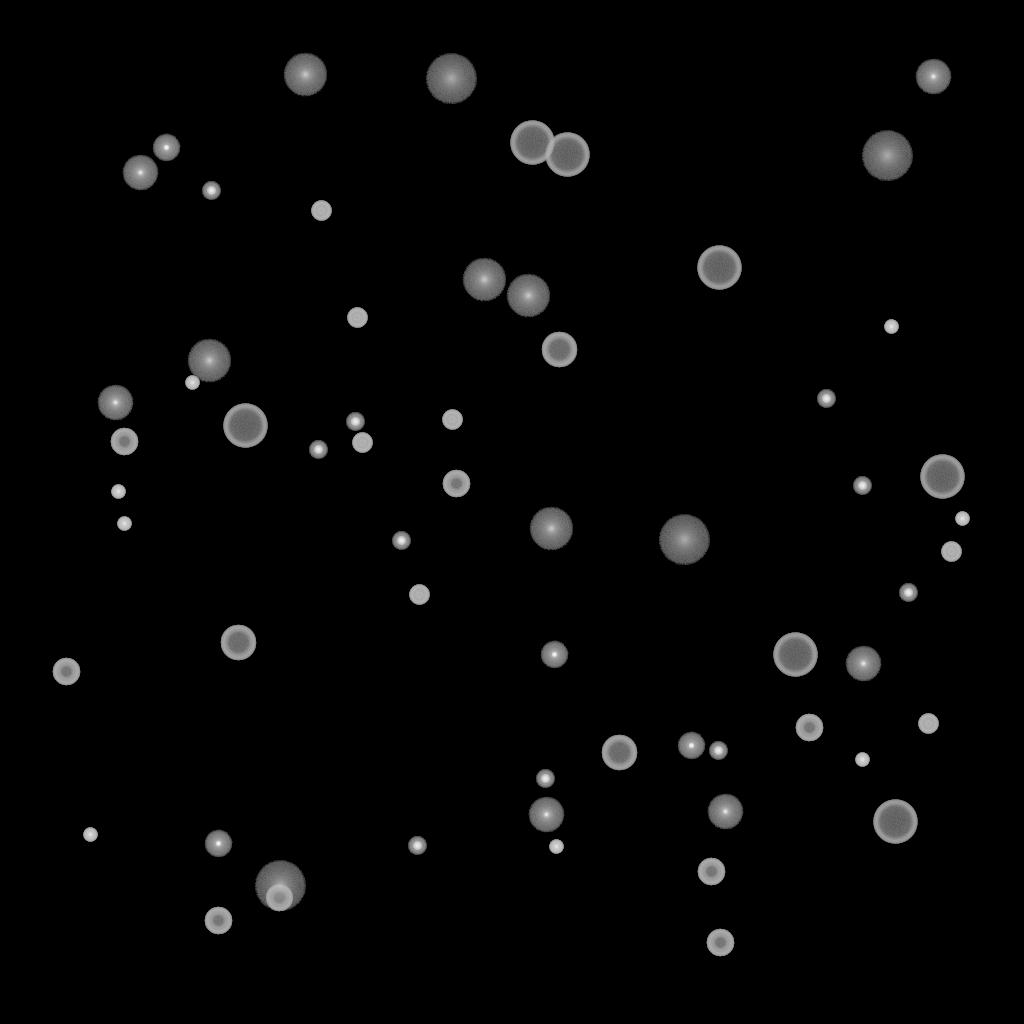depth:-10: (540, 641, 568, 669), (677, 732, 705, 760), (204, 830, 232, 858), (152, 134, 180, 162)
depth:-20: (899, 584, 917, 602), (536, 770, 554, 788), (817, 390, 835, 408), (309, 441, 327, 459), (853, 477, 871, 495), (392, 532, 410, 550), (202, 182, 220, 200), (346, 413, 364, 431), (709, 742, 727, 760), (408, 837, 426, 855)
depth:-30: (955, 512, 969, 526), (884, 320, 898, 334), (185, 376, 199, 390), (117, 517, 131, 531), (549, 840, 563, 854), (855, 753, 869, 767), (83, 828, 97, 842), (111, 485, 125, 499)
depth:-40: (941, 542, 961, 562), (918, 714, 938, 734), (352, 433, 372, 453), (409, 585, 429, 605), (311, 201, 331, 221), (442, 410, 462, 430), (347, 308, 367, 328)
depth:-50: (706, 929, 734, 957), (442, 470, 470, 498), (697, 858, 725, 886), (795, 714, 823, 742), (265, 884, 293, 912), (52, 658, 80, 686), (204, 907, 232, 935), (110, 428, 138, 456)
depth:-60: (601, 735, 637, 771), (220, 625, 256, 661), (541, 332, 577, 368)
depth:-70: (920, 455, 964, 499), (697, 246, 741, 290), (873, 800, 917, 844), (773, 633, 817, 677), (510, 121, 554, 165), (545, 133, 589, 177), (223, 404, 267, 448)
depth:0: (97, 385, 133, 421), (845, 646, 881, 682), (707, 794, 743, 830), (122, 155, 158, 191), (915, 59, 951, 95), (528, 797, 564, 833)
depth:10: (283, 53, 327, 97), (187, 339, 231, 383), (529, 507, 573, 551), (462, 258, 506, 302), (506, 274, 550, 318)
depth:20: (861, 131, 913, 181), (254, 861, 306, 911), (658, 515, 710, 565), (425, 54, 477, 104)
